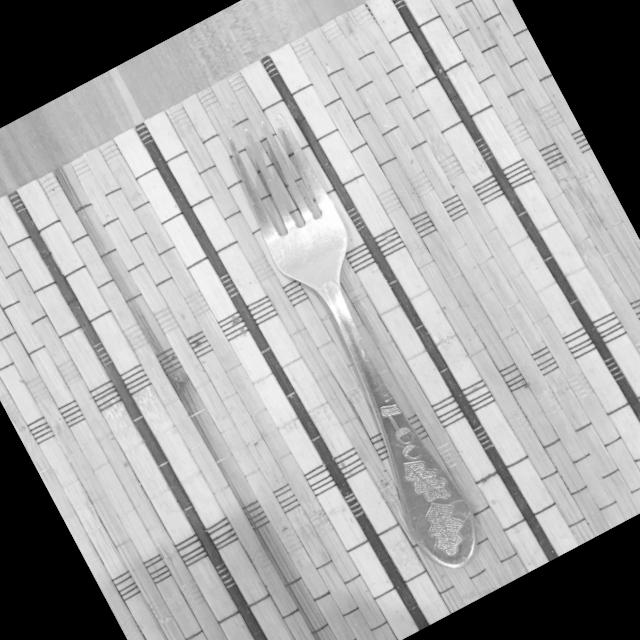fork: (208, 108, 516, 580)
